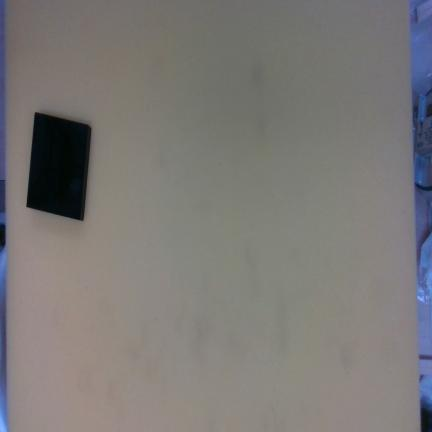tile: (25, 110, 91, 221)
